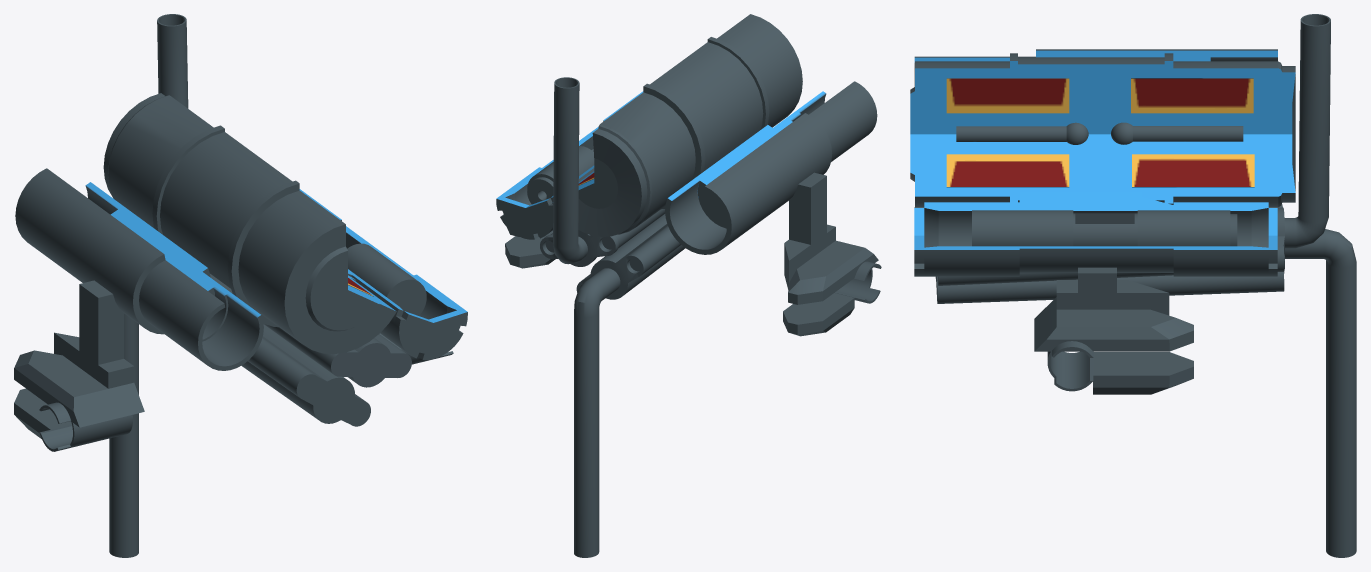
File: ЗУР-РО-РМ_Р.fbx
The picture shows the model from 3 angles, left to right: view 1: azimuth 30°, elevation 25°; view 2: azimuth 150°, elevation 25°; view 3: azimuth 270°, elevation 25°; orthographic projection. The views are drawn at different scales.
Visible parts, largest first — view 1: ЗУР-РО-РМ_Р; view 2: ЗУР-РО-РМ_Р; view 3: ЗУР-РО-РМ_Р.
Boxes of the visible parts, left/top/right/bottom form: ЗУР-РО-РМ_Р: left=14, top=14, right=467, bottom=557; ЗУР-РО-РМ_Р: left=496, top=14, right=881, bottom=557; ЗУР-РО-РМ_Р: left=910, top=14, right=1356, bottom=557.
Bounding box in the file's own units: 45.43 × 58.55 × 43.08.
1 material, 1 textured.
